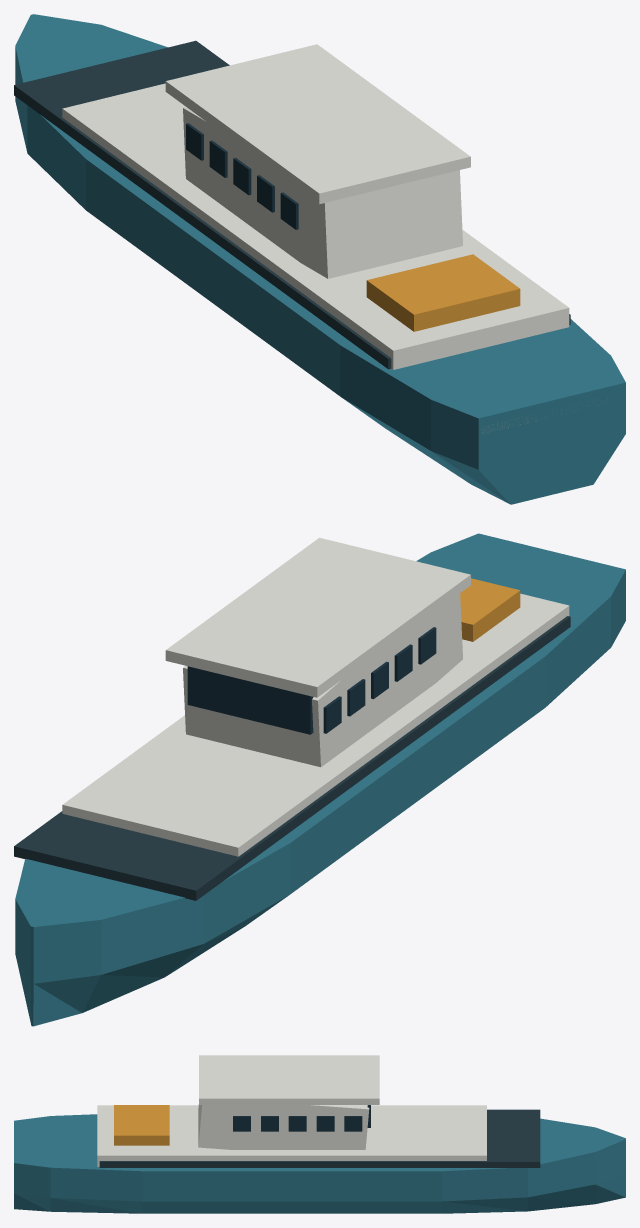
The model's file is speedboat.glb.
3 renders of one model, top to bottom at view 1: azimuth 30°, elevation 25°; view 2: azimuth 150°, elevation 25°; view 3: azimuth 270°, elevation 25°, orthographic. The views are drawn at different scales.
Visible parts, largest first — view 1: speedboat-material-2, speedboat-material-5, speedboat-material-3, speedboat-material-4, speedboat-material-1; view 2: speedboat-material-2, speedboat-material-5, speedboat-material-3, speedboat-material-1, speedboat-material-4; view 3: speedboat-material-5, speedboat-material-2, speedboat-material-3, speedboat-material-4, speedboat-material-1.
Boxes of the visible parts, x1,y1,x2,y2 form: speedboat-material-2: [62, 44, 569, 369]; speedboat-material-5: [15, 14, 625, 504]; speedboat-material-3: [14, 40, 570, 369]; speedboat-material-4: [366, 254, 520, 331]; speedboat-material-1: [186, 123, 298, 229]; speedboat-material-2: [62, 537, 569, 856]; speedboat-material-5: [15, 533, 625, 1026]; speedboat-material-3: [14, 616, 570, 900]; speedboat-material-1: [187, 627, 436, 734]; speedboat-material-4: [460, 578, 520, 641]; speedboat-material-5: [14, 1114, 625, 1213]; speedboat-material-2: [97, 1055, 486, 1166]; speedboat-material-3: [99, 1109, 540, 1167]; speedboat-material-4: [114, 1105, 169, 1145]; speedboat-material-1: [233, 1105, 370, 1131].
Size of the model in its own units: 5 by 4.78 by 22.
